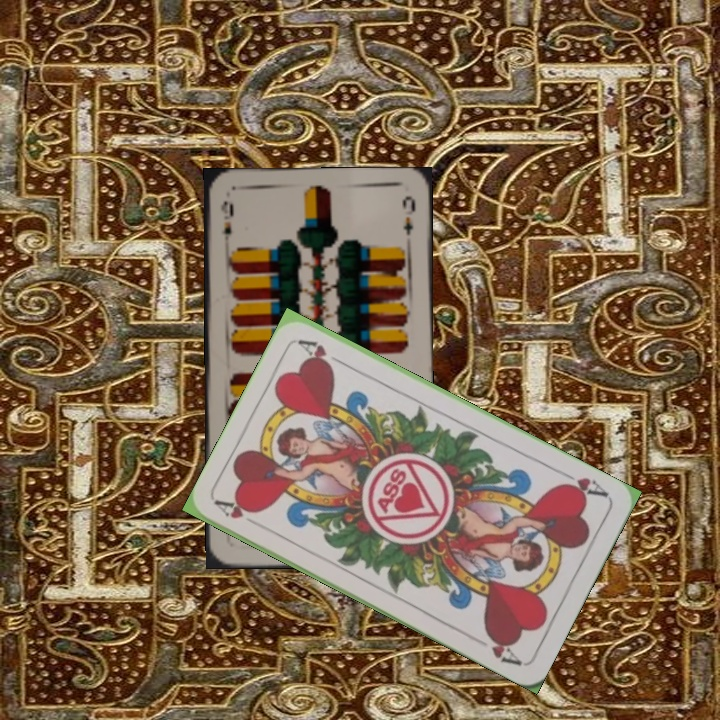E9: (217, 197, 237, 252)
HA: (555, 466, 611, 501), (212, 496, 259, 522)
